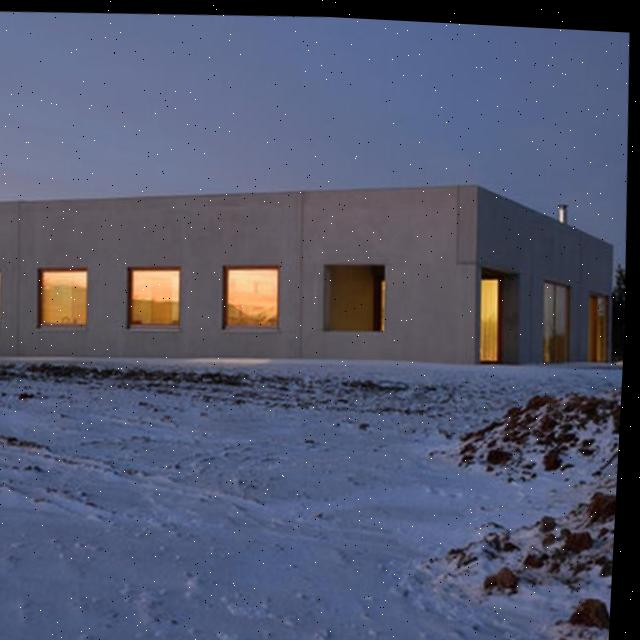building: (0, 153, 620, 387)
